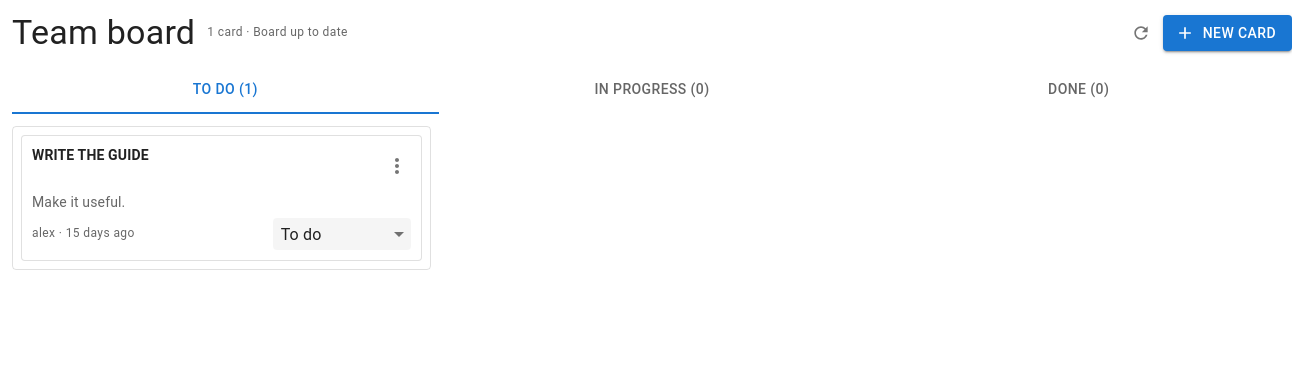
it: shared kanban board › retains a successfully moved card in its destination when the board refresh fails
Expected: the element that starts with "Write the guide" is shown, [21, 135, 422, 261]
Select "In progress" in the dropdown named "Status for Write the guide" at [342, 234], box [281, 218, 403, 250]
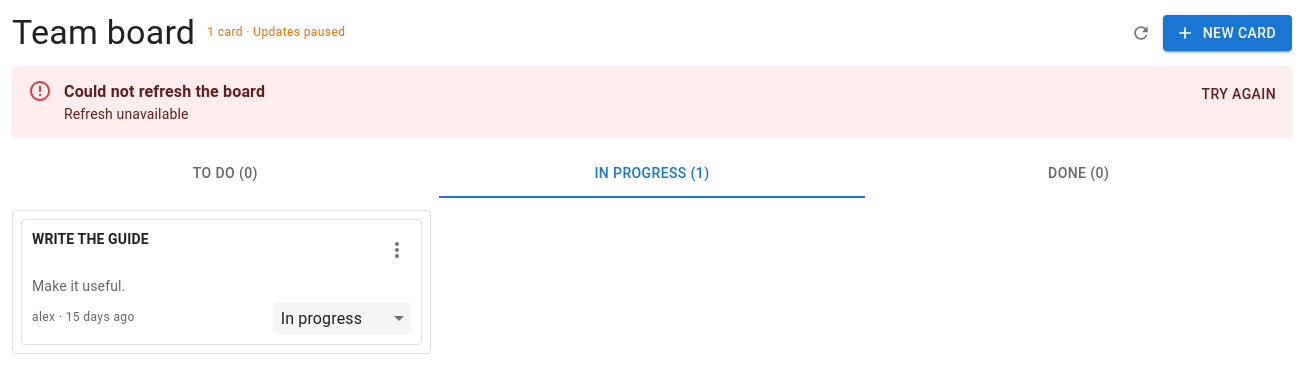
Now the tab "In progress (1)" is shown, box [439, 150, 865, 198]
Now the dropdown named "Status for Write the guide" shows "In progress", box [281, 302, 403, 334]
Now the text "Could not refresh the board" is shown, box [64, 80, 265, 104]
